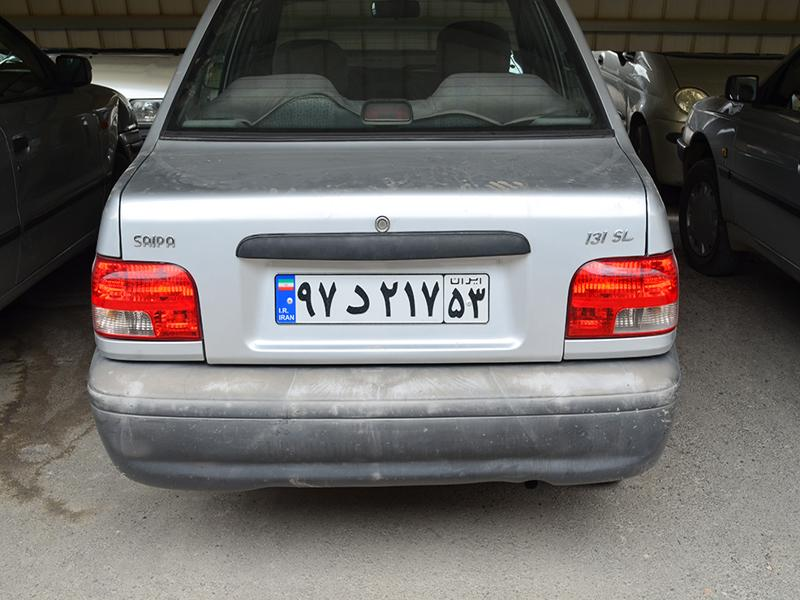Plate: (267, 261, 519, 366)
